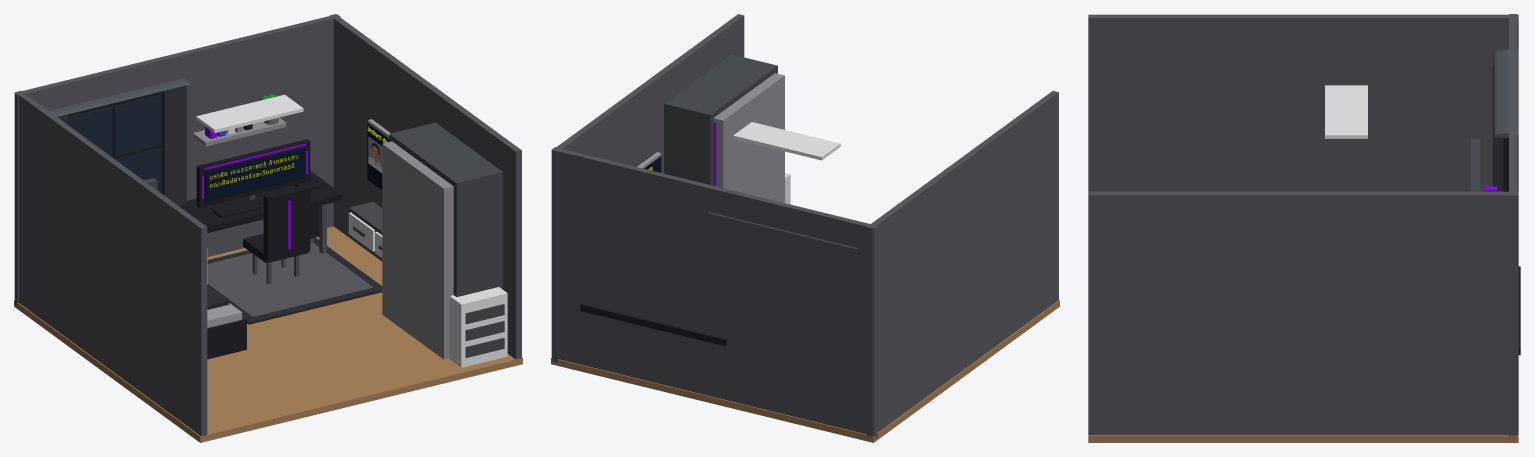
Rendered from BEDROOM13.glb.
The picture shows the model from 3 angles, left to right: view 1: azimuth 30°, elevation 25°; view 2: azimuth 150°, elevation 25°; view 3: azimuth 270°, elevation 25°; orthographic projection. The views are drawn at different scales.
Visible parts, largest first — view 1: LEFT_WALL, FLOOR, BACK_WALL, RIGHT_WALL, WARDROBE_DOOR_1, WARDROBE_BODY, WORK_RUG_BORDER, WINDOW_GLASS, CHAIR_BACK, MONITOR_SCREEN, DRAWER_UNIT, CURTAIN_RIGHT (+15 smaller); view 2: BACK_WALL, LEFT_WALL, RIGHT_WALL, WARDROBE_BODY, WARDROBE_DOOR_1, FLOOR, CEILING_LIGHT, GAMING_DESK; view 3: RIGHT_WALL, LEFT_WALL, BACK_WALL, FLOOR, CEILING_LIGHT, CURTAIN_ROD, BED_HEADBOARD, CURTAIN_RIGHT.
Part boxes in pixels (box(x1,y1,x2,y2)): LEFT_WALL: box(15, 91, 207, 436); FLOOR: box(14, 226, 522, 442); BACK_WALL: box(14, 14, 340, 305); RIGHT_WALL: box(329, 14, 521, 359); WARDROBE_DOOR_1: box(382, 141, 453, 359); WARDROBE_BODY: box(389, 122, 502, 296); WORK_RUG_BORDER: box(207, 243, 373, 317); WINDOW_GLASS: box(68, 94, 161, 192); CHAIR_BACK: box(263, 185, 310, 261); MONITOR_SCREEN: box(205, 147, 305, 202); DRAWER_UNIT: box(449, 287, 507, 367); CURTAIN_RIGHT: box(161, 85, 186, 205); BACK_WALL: box(551, 147, 877, 438); LEFT_WALL: box(866, 91, 1058, 437); RIGHT_WALL: box(552, 14, 744, 362); WARDROBE_BODY: box(664, 54, 777, 185); WARDROBE_DOOR_1: box(713, 73, 784, 202); FLOOR: box(551, 300, 1059, 442); CEILING_LIGHT: box(733, 122, 840, 160); GAMING_DESK: box(580, 304, 726, 346); RIGHT_WALL: box(1088, 191, 1518, 434); LEFT_WALL: box(1088, 14, 1518, 191); BACK_WALL: box(1509, 14, 1517, 438); FLOOR: box(1088, 435, 1518, 442); CEILING_LIGHT: box(1325, 85, 1367, 138); CURTAIN_ROD: box(1494, 49, 1518, 137); BED_HEADBOARD: box(1470, 139, 1480, 191); CURTAIN_RIGHT: box(1494, 137, 1502, 191).
Size of the model in its own units: 8 by 5.08 by 8.04.
Materials: 29 (1 with a texture image).
